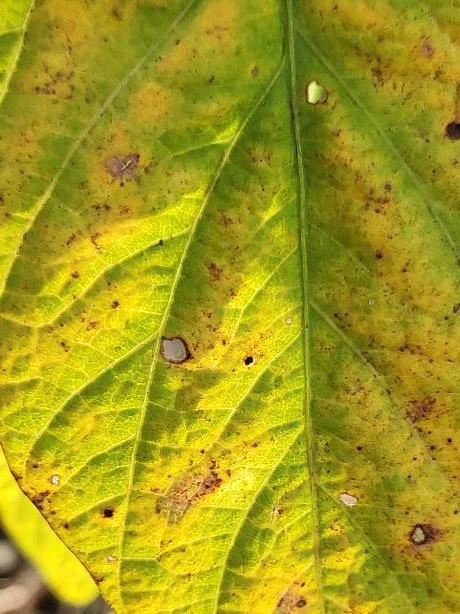doenca: (120, 411, 253, 564), (326, 255, 459, 365), (62, 116, 169, 210), (29, 264, 134, 348), (369, 4, 459, 97), (394, 385, 460, 485), (29, 30, 101, 95), (258, 535, 314, 614), (392, 499, 458, 566), (340, 164, 400, 233), (409, 97, 460, 157), (155, 325, 207, 376), (231, 329, 272, 378), (299, 65, 338, 114), (31, 462, 69, 508), (85, 492, 118, 528), (334, 485, 366, 511), (348, 438, 375, 461), (245, 57, 264, 83)
